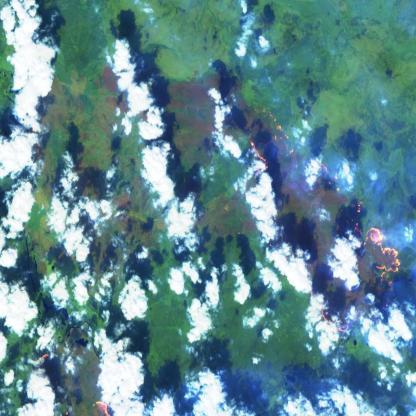fire: (309, 198, 402, 334), (247, 104, 295, 182), (89, 394, 114, 416), (37, 348, 55, 366)
